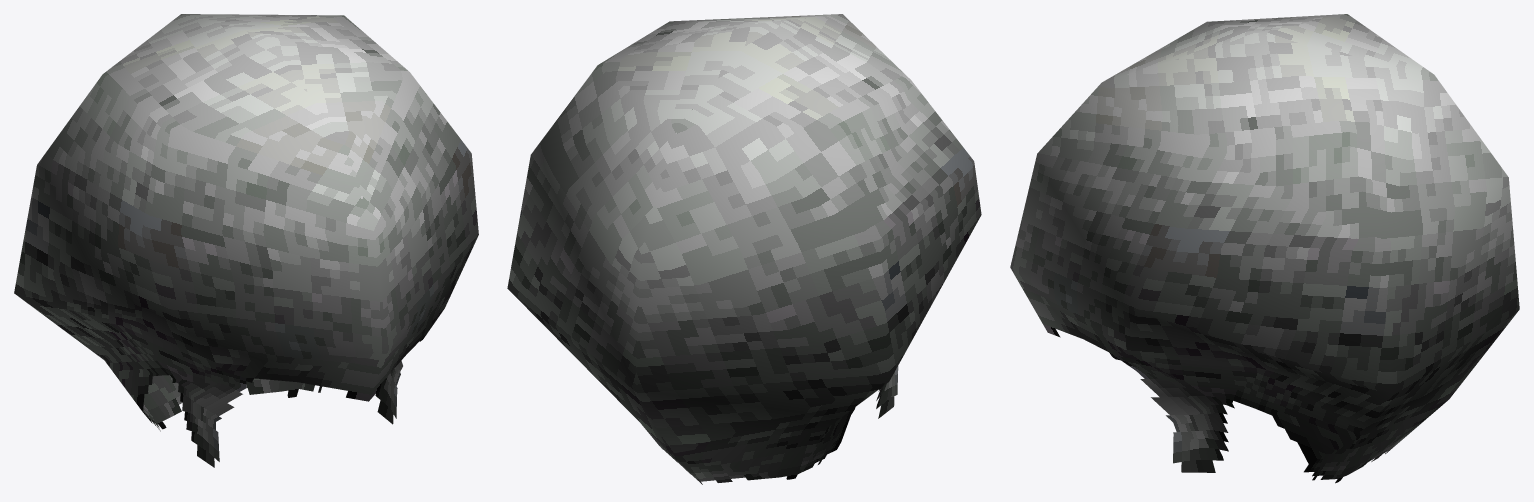
Rendered from HUmar hair7.obj.
3 views of the same model, side by side, from view 1: azimuth 30°, elevation 25°; view 2: azimuth 150°, elevation 25°; view 3: azimuth 270°, elevation 25° (orthographic). The views are drawn at different scales.
Visible parts, largest first — view 1: objg_plAhai06_1; view 2: objg_plAhai06_1; view 3: objg_plAhai06_1.
Boxes of the visible parts, x1,y1,x2,y2 form: objg_plAhai06_1: [14, 14, 478, 467]; objg_plAhai06_1: [507, 14, 981, 484]; objg_plAhai06_1: [1010, 14, 1519, 483].
Size of the model in its own units: 1.25 by 1.32 by 1.43.
1 material, 1 textured.
